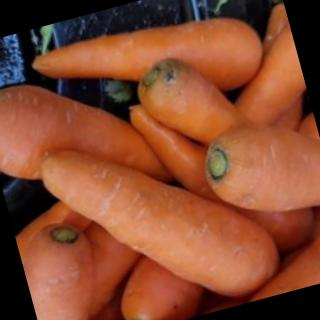Wortel: (35, 102, 287, 320)
